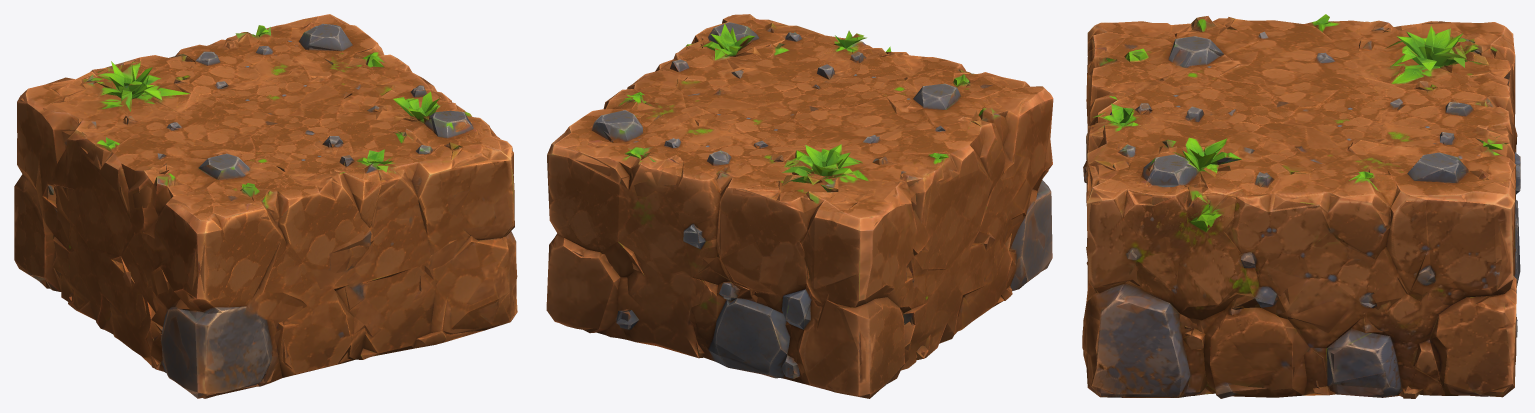
File: dirt.glb
3 views of the same model, side by side, from view 1: azimuth 30°, elevation 25°; view 2: azimuth 150°, elevation 25°; view 3: azimuth 270°, elevation 25° (orthographic). The views are drawn at different scales.
Bounding box in the file's own units: 1.9 × 1.11 × 1.9.
1 material, 1 textured.
